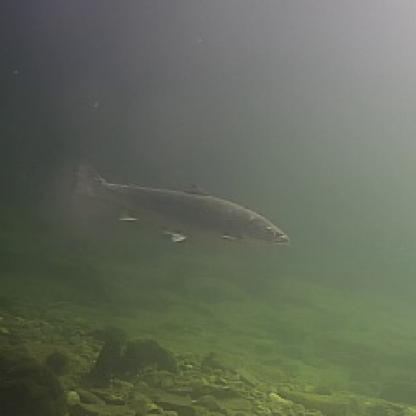salmon: (70, 156, 292, 248)
